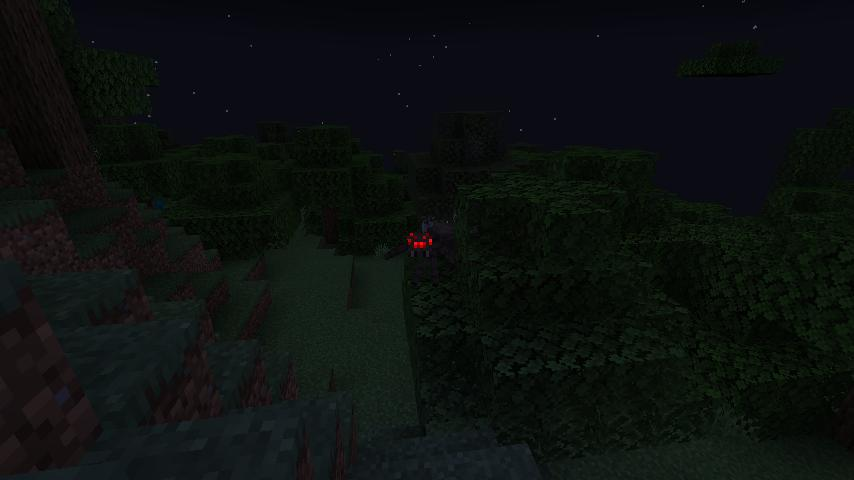spider: (383, 223, 461, 286)
